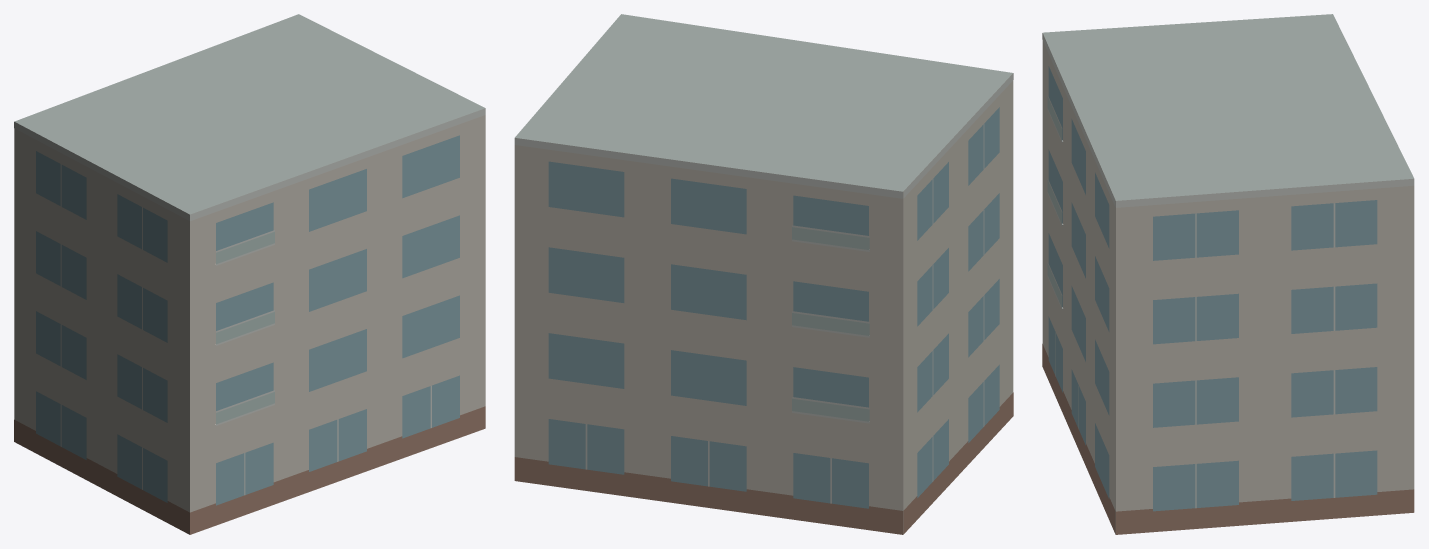
File: survey-upis-33033851.glb
3 views of the same model, side by side, from view 1: azimuth 30°, elevation 25°; view 2: azimuth 150°, elevation 25°; view 3: azimuth 270°, elevation 25° (orthographic). The views are drawn at different scales.
Visible parts, largest first — view 1: survey-upis-33033851.tmp; view 2: survey-upis-33033851.tmp; view 3: survey-upis-33033851.tmp.
Boxes of the visible parts, x1,y1,x2,y2 form: survey-upis-33033851.tmp: [14, 14, 485, 534]; survey-upis-33033851.tmp: [514, 14, 1013, 534]; survey-upis-33033851.tmp: [1042, 14, 1414, 534].
Size of the model in its own units: 14.05 by 11.7 by 11.82.
